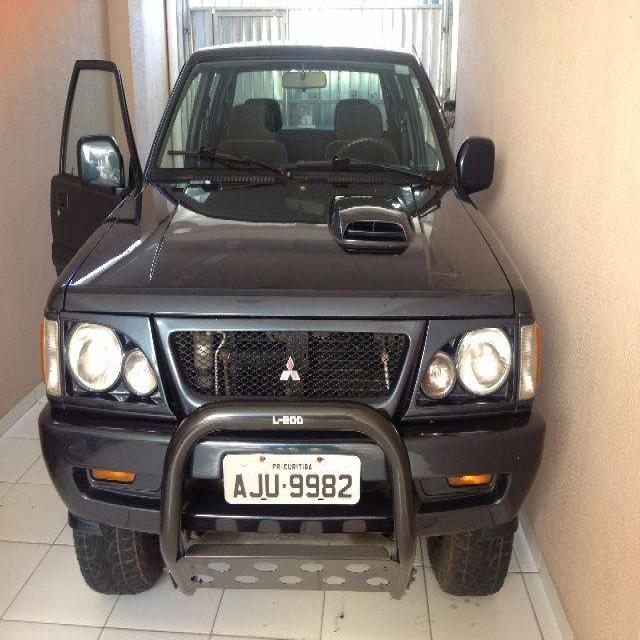Placa: (215, 452, 364, 511)
